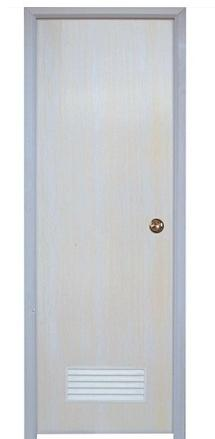door: (23, 2, 182, 439)
